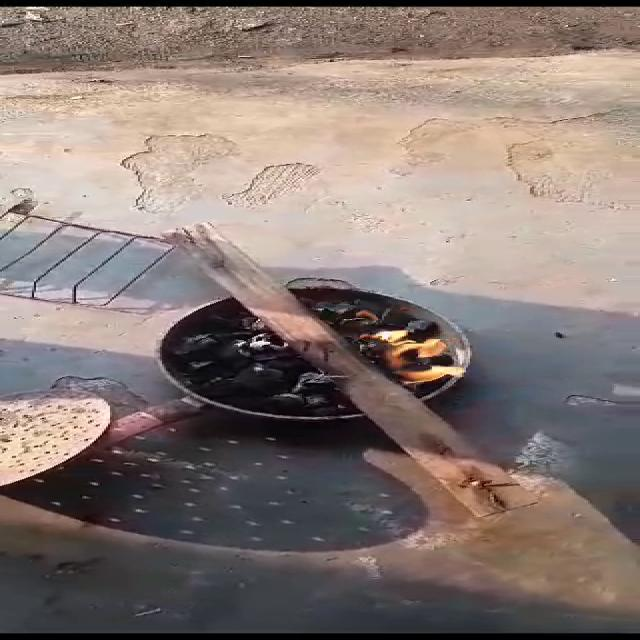Fire: (358, 326, 484, 391)
